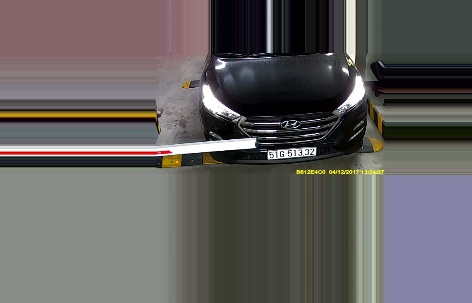plate: (267, 145, 316, 159)
